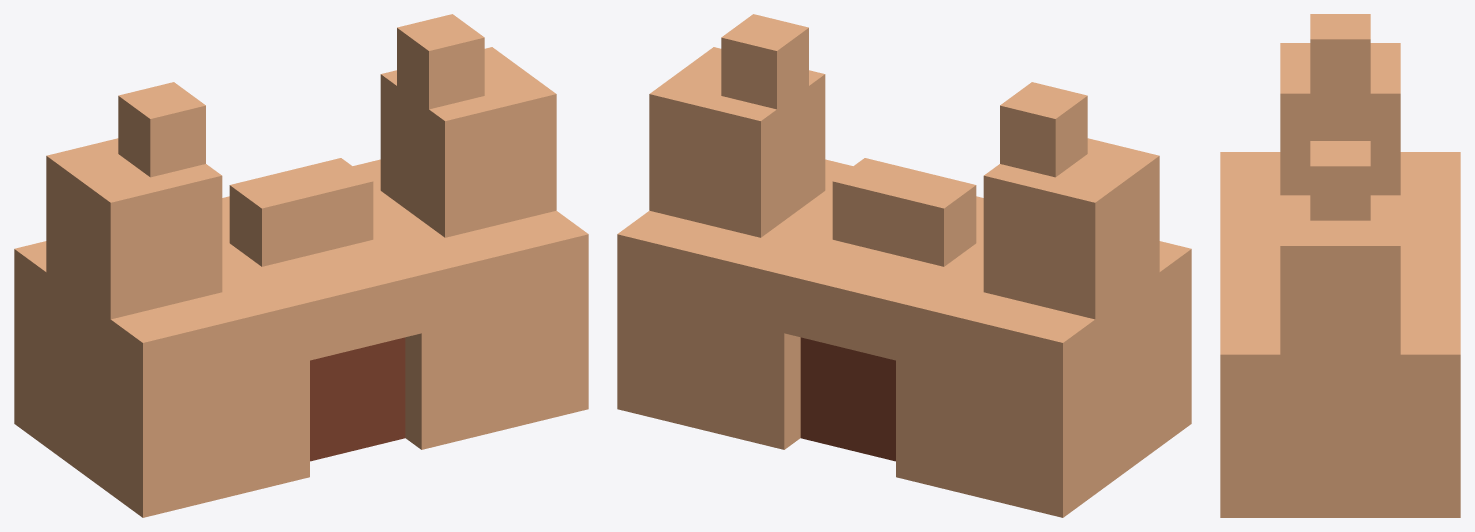
The model's file is sand-castle.obj.
The picture shows the model from 3 angles, left to right: view 1: azimuth 30°, elevation 25°; view 2: azimuth 150°, elevation 25°; view 3: azimuth 270°, elevation 25°; orthographic projection. The views are drawn at different scales.
Bounding box in the file's own units: 8 × 6 × 4.
1 material, 1 textured.
